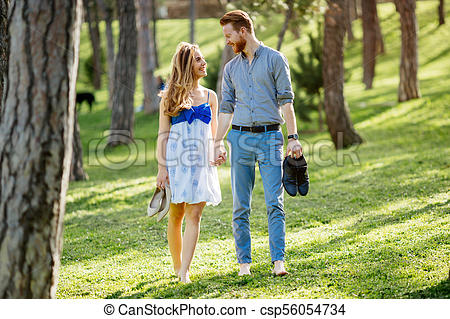Person: (214, 9, 308, 282), (152, 37, 221, 286)
